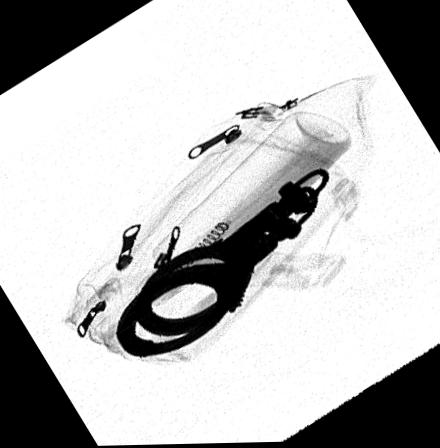HandCuffs: (117, 169, 329, 357)
